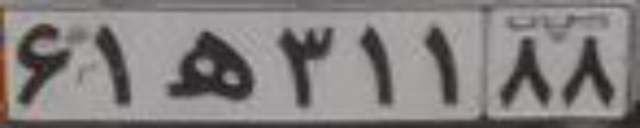1: (356, 24, 396, 105), (94, 25, 134, 104), (419, 24, 459, 103)
3: (275, 24, 330, 107)
6: (12, 22, 73, 106)
8: (494, 35, 553, 107), (562, 35, 614, 108)
vav: (162, 29, 256, 101)
